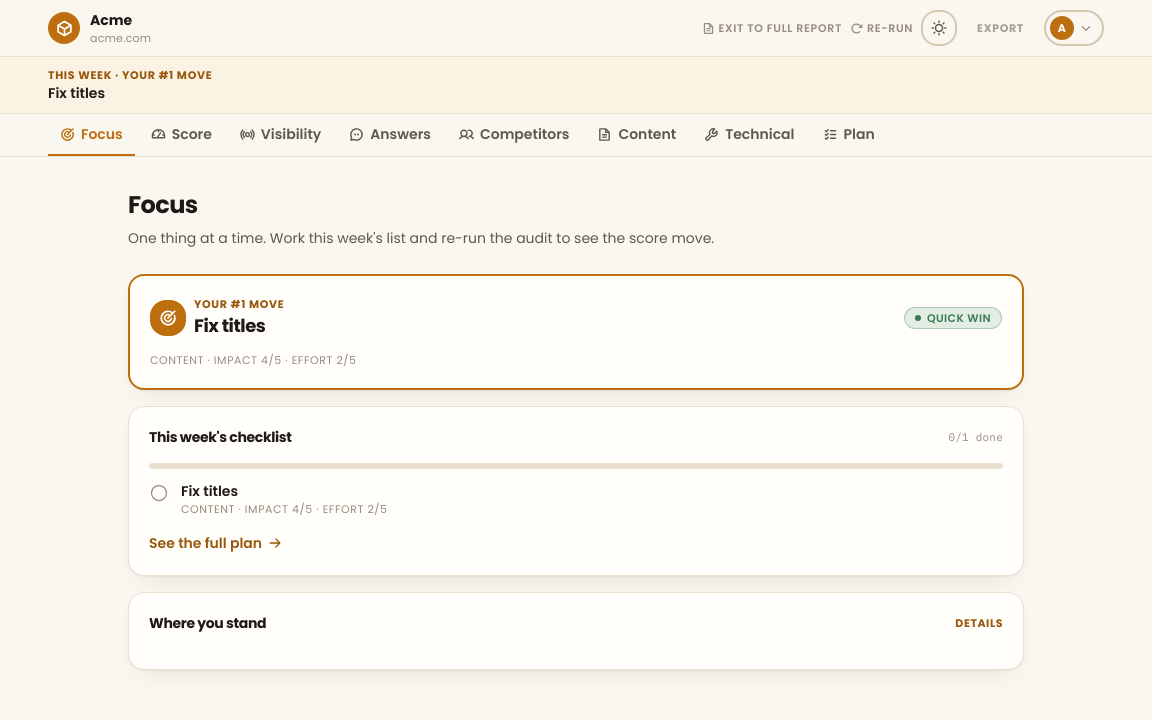
Scenario: GeoDashboard account menu › renders the shared account menu, including History, for a signed-in user
Click the button named "Account menu".
click(1074, 28)  # box [1044,10,1104,46]
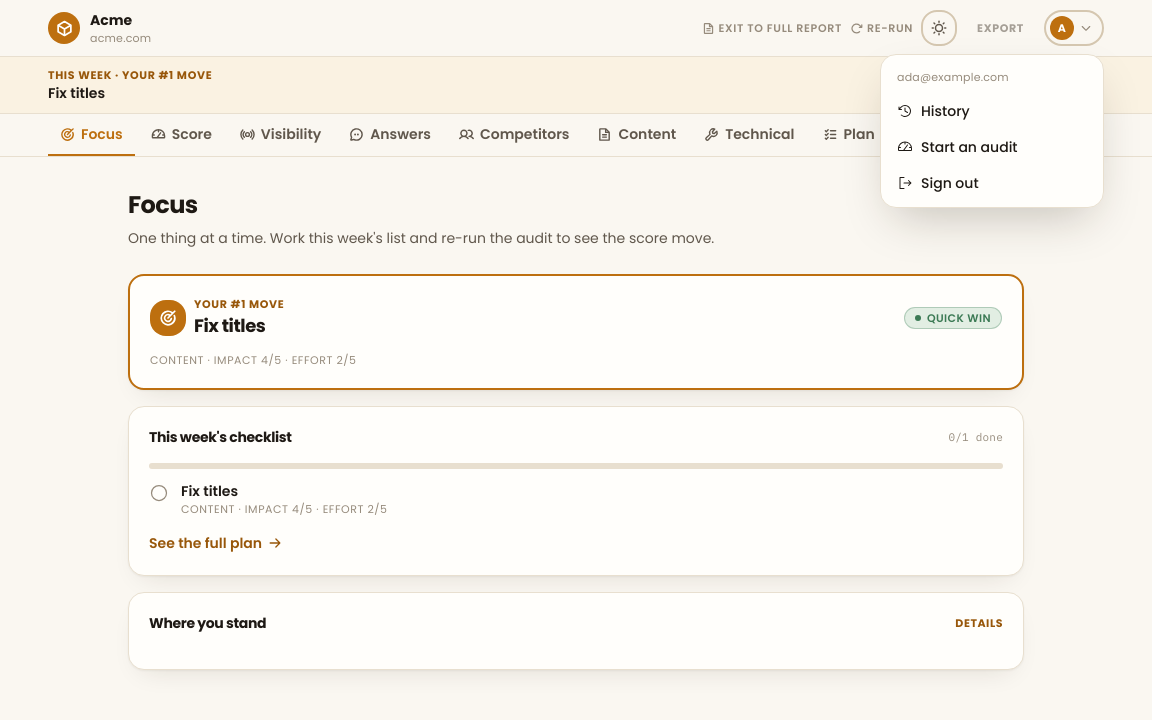
Result: the button "History" is shown at [887,93,1097,129]
